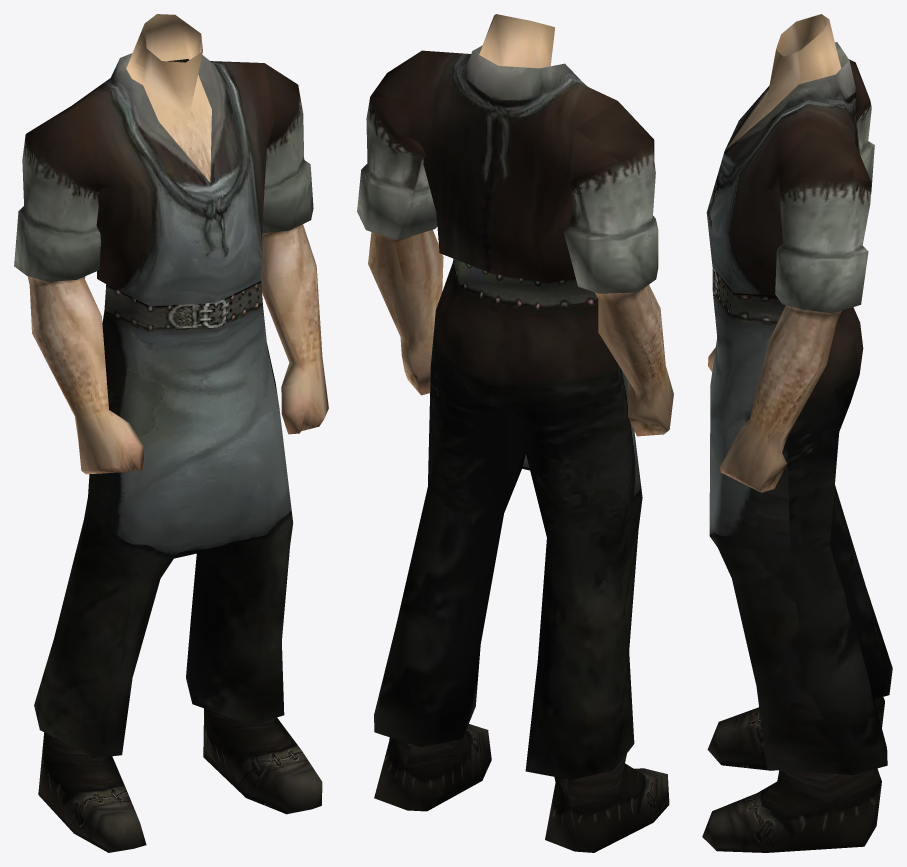
Rendered from ARMOR_KM_SMITH_02.glb.
3 renders of one model, left to right at view 1: azimuth 30°, elevation 25°; view 2: azimuth 150°, elevation 25°; view 3: azimuth 270°, elevation 25°, orthographic. The views are drawn at different scales.
Visible parts, largest first — view 1: ARMOR_KM_SMITH_02; view 2: ARMOR_KM_SMITH_02; view 3: ARMOR_KM_SMITH_02.
Part boxes in pixels (bbox=[...]): ARMOR_KM_SMITH_02: bbox=[14, 14, 328, 852]; ARMOR_KM_SMITH_02: bbox=[357, 14, 673, 852]; ARMOR_KM_SMITH_02: bbox=[702, 14, 892, 852].
Size of the model in its own units: 0.6416 by 1.69 by 0.3751.
2 materials, 2 textured.
